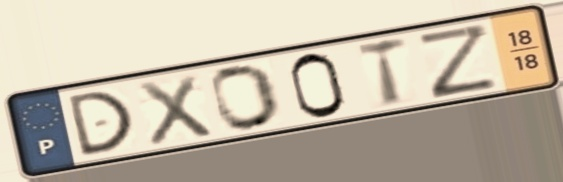0: (286, 49, 349, 121)
D: (63, 88, 136, 160)
O: (208, 62, 285, 133)
T: (354, 33, 411, 109)
X: (134, 71, 217, 150)
Z: (414, 20, 502, 102)
